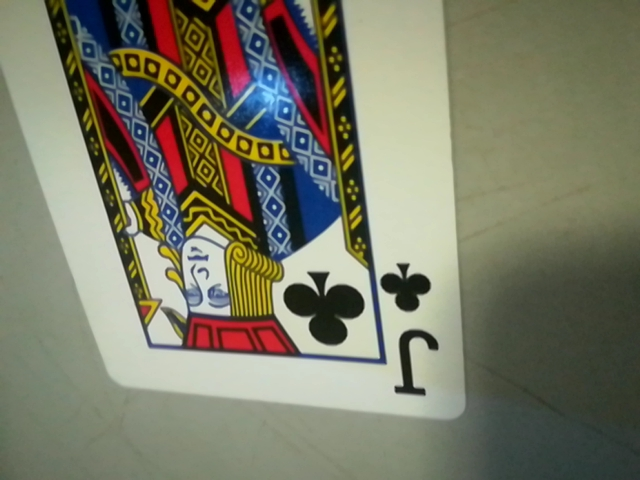mh j: (373, 257, 449, 407)
